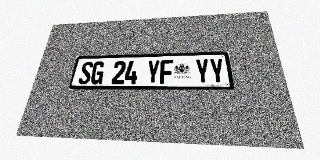2: (111, 61, 126, 84)
4: (124, 60, 139, 84)
F: (160, 59, 173, 84)
G: (90, 61, 105, 84)
S: (78, 62, 94, 84)
Y: (209, 58, 226, 84), (195, 59, 210, 84), (146, 60, 160, 84)
